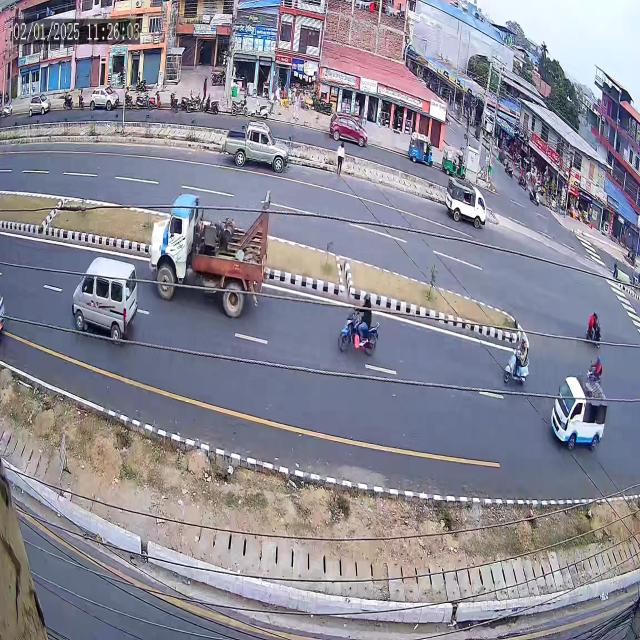motorcycle: (330, 273, 388, 377), (502, 321, 540, 400), (576, 300, 608, 354)
van: (548, 376, 612, 456)
